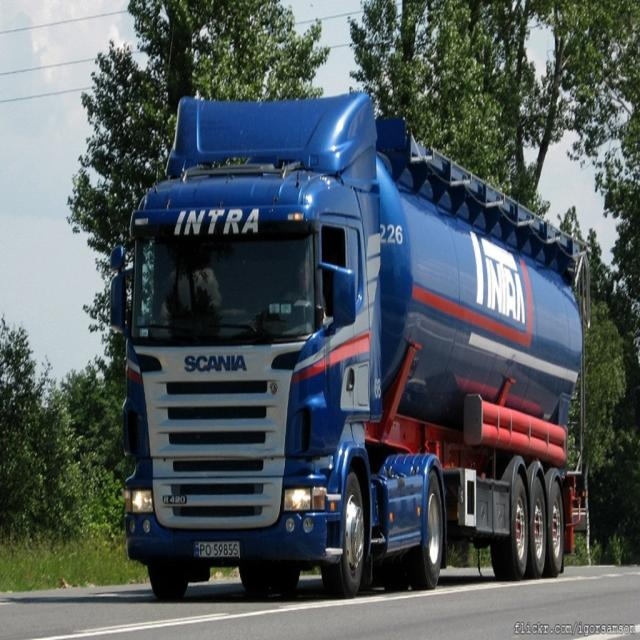Heavy Duty Truck: (110, 97, 592, 618)
